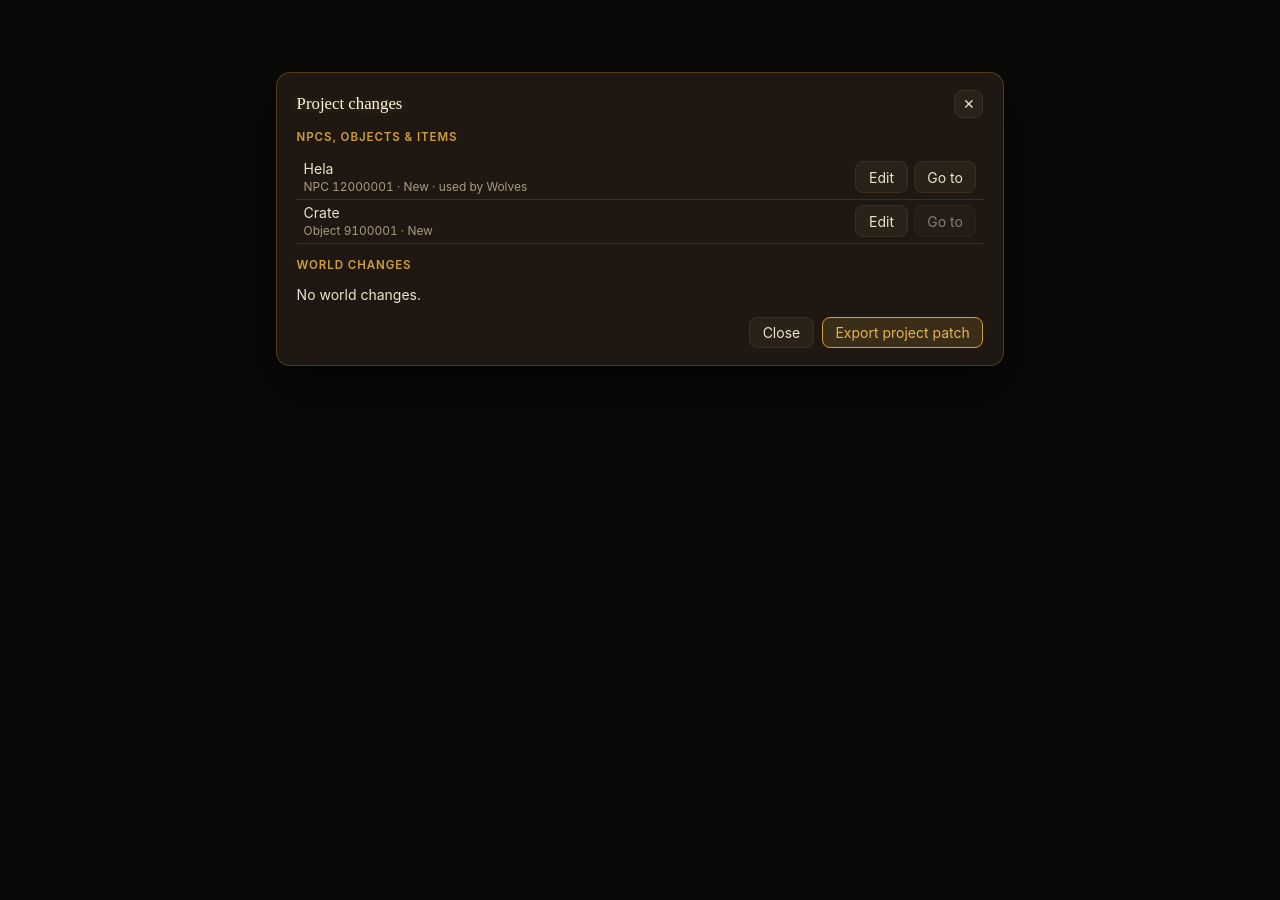
Test case: Project changes › exports the project patch with only new NPCs and no world changes
The image size is (1280, 900).
What coordinates should you click on to do the following:
click the button "Export project patch"
I would click on:
 (903, 333)
Its box is [822, 317, 983, 348].
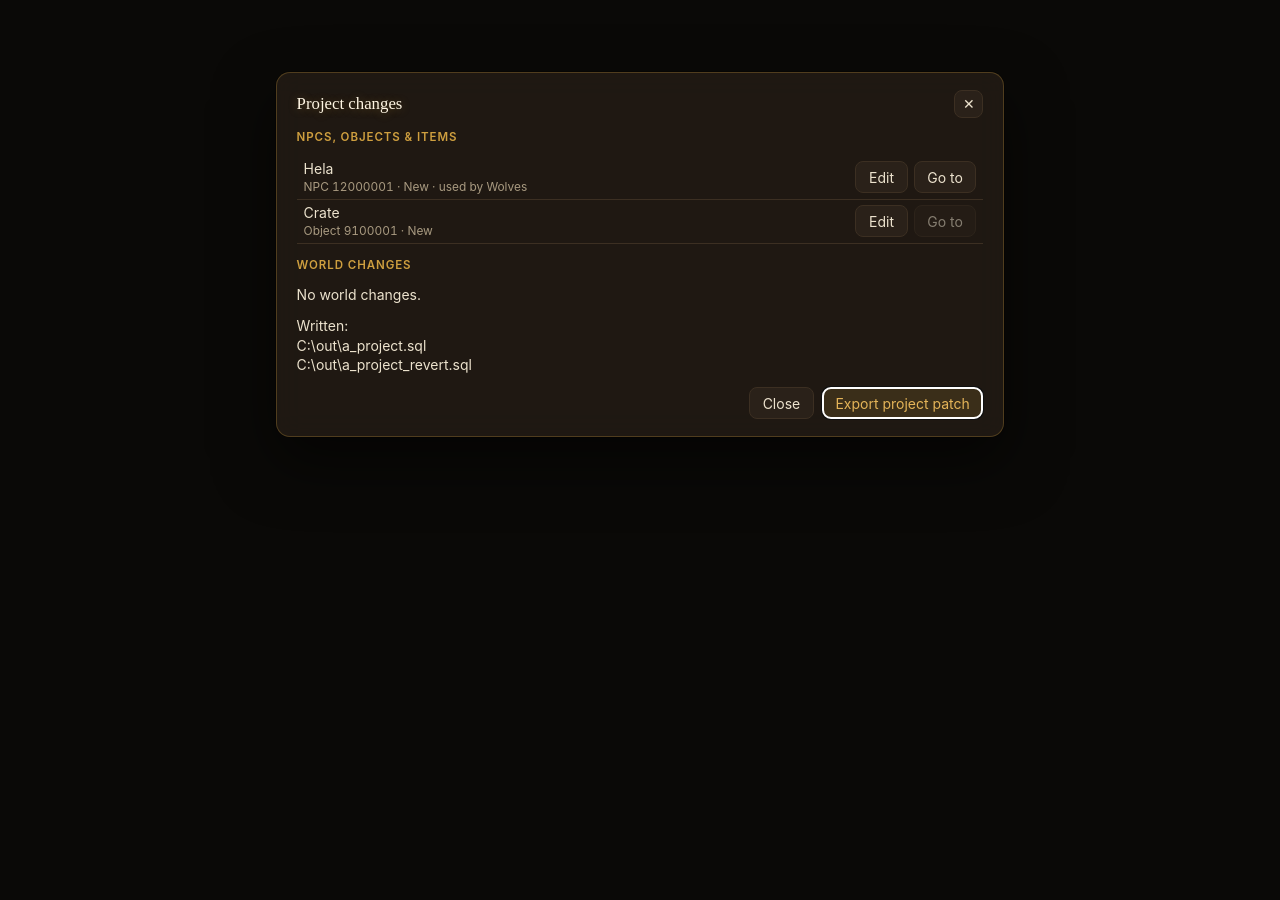
Result: the text "C:\\out\\a_project.sql" is shown at [297, 337, 426, 354]
